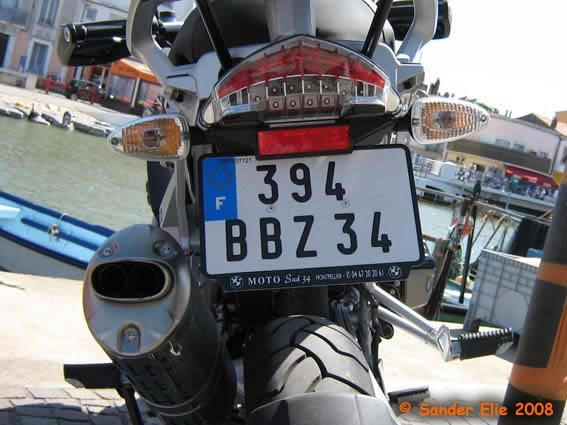placa de veiculo: (183, 139, 428, 277)
